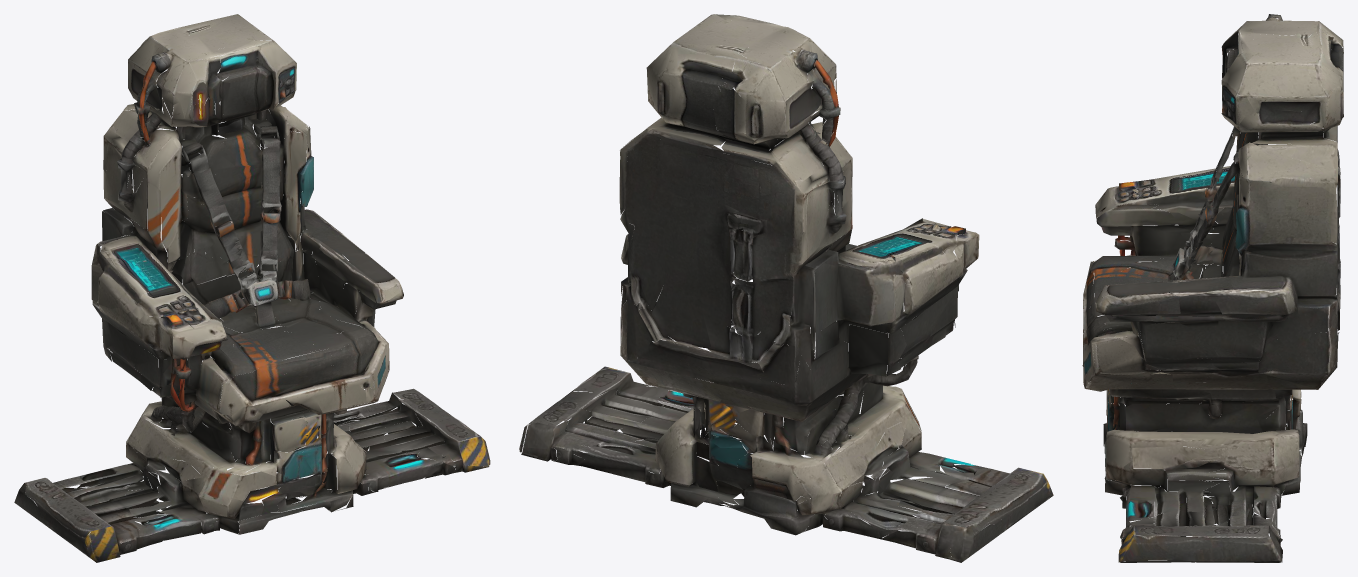
Rendered from ht_chair_command.glb.
3 renders of one model, left to right at view 1: azimuth 30°, elevation 25°; view 2: azimuth 150°, elevation 25°; view 3: azimuth 270°, elevation 25°, orthographic. The views are drawn at different scales.
Visible parts, largest first — view 1: ht_chair_command; view 2: ht_chair_command; view 3: ht_chair_command.
Boxes of the visible parts, box(x1,y1,x2,y2) form: ht_chair_command: box(14, 14, 490, 562); ht_chair_command: box(519, 14, 1053, 562); ht_chair_command: box(1082, 14, 1343, 562).
Size of the model in its own units: 1.59 by 1.6 by 0.892.
Materials: 1 (1 with a texture image).
